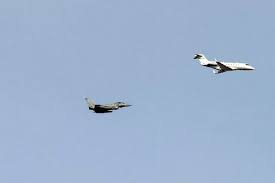plane: (192, 53, 254, 74), (83, 93, 131, 114)
